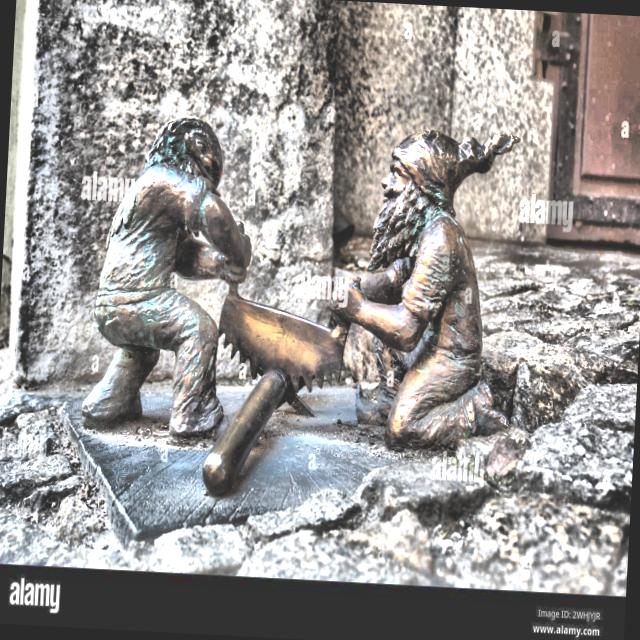Wyrostek i Zadymek: (82, 117, 516, 494)
